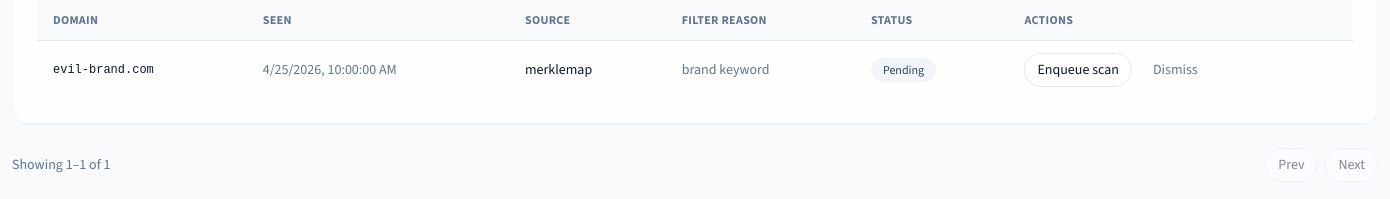
DiscoveriesExplorer › enqueue button posts to /api/discoveries/{id}/enqueue and updates row to 'Enqueued' badge with scan id
What coordinates should you click on to do the following:
click the button "Enqueue scan"
I would click on:
 (1078, 70)
Its box is x1=1024 y1=53 x2=1132 y2=87.
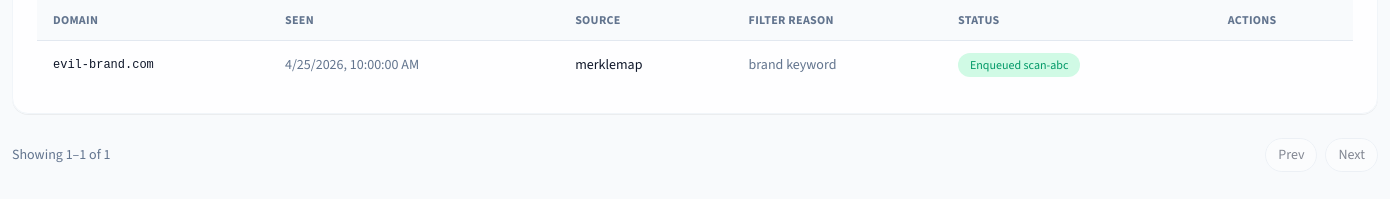
Now the text "Enqueued scan-abc" is shown, box x1=958 y1=53 x2=1080 y2=77
